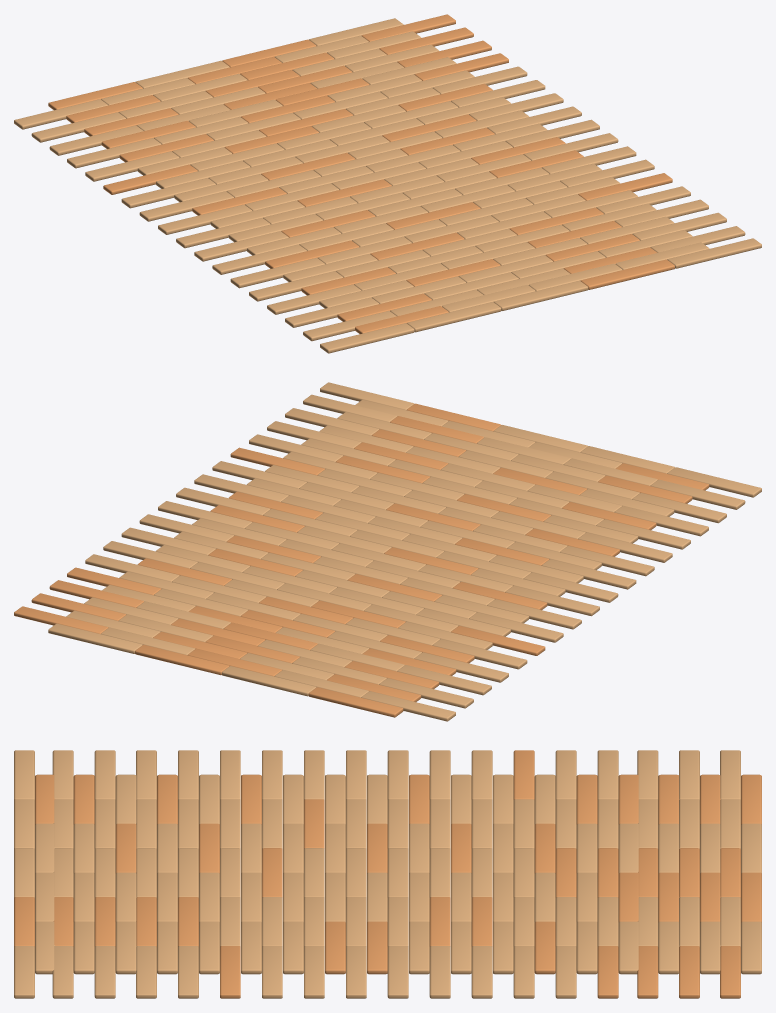
The model's file is wooden .fbx.
3 renders of one model, top to bottom at view 1: azimuth 30°, elevation 25°; view 2: azimuth 150°, elevation 25°; view 3: azimuth 270°, elevation 25°, orthographic. The views are drawn at different scales.
Parts seen in each view (by area): view 1: Cube.024; view 2: Cube.024; view 3: Cube.024.
Part boxes in pixels (x1,y1,x2,y2): Cube.024: [14, 14, 761, 353]; Cube.024: [14, 382, 761, 721]; Cube.024: [14, 750, 761, 998].
Bounding box in the file's own units: 711 × 6.47 × 919.
